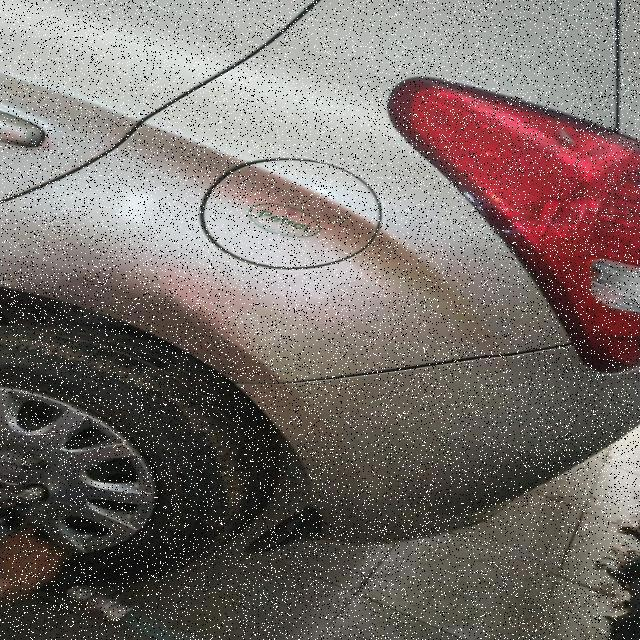quaterpanel-dent: (10, 117, 592, 378)
